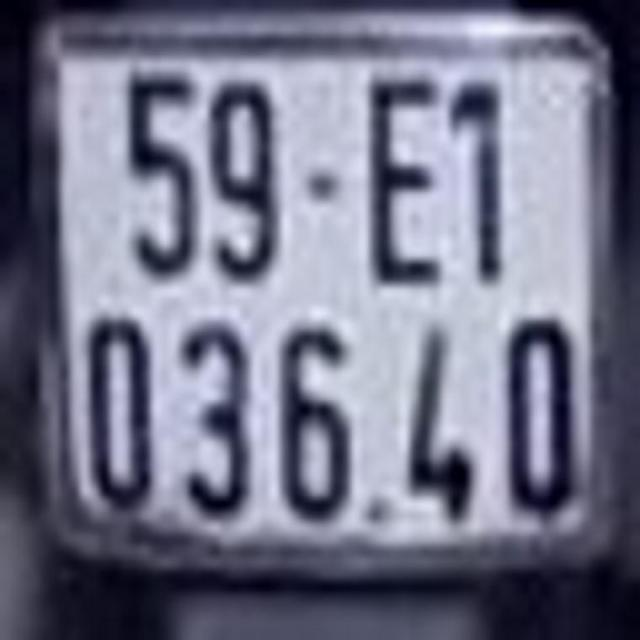0: (501, 310, 576, 518), (79, 309, 156, 504)
1: (448, 74, 515, 285)
3: (176, 310, 252, 518)
4: (392, 310, 482, 520)
5: (122, 62, 202, 280)
6: (274, 310, 354, 520)
9: (206, 70, 285, 286)
E: (358, 71, 444, 284)
